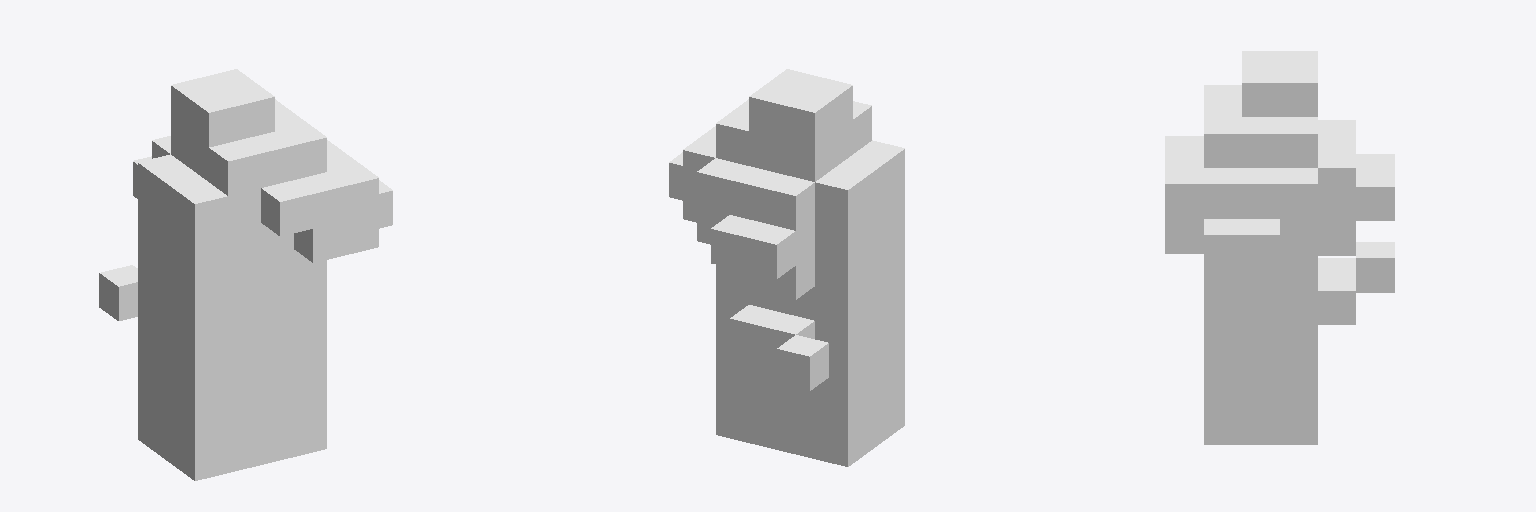
The model's file is SimplePatientTorso.obj.
3 views of the same model, side by side, from view 1: azimuth 30°, elevation 25°; view 2: azimuth 150°, elevation 25°; view 3: azimuth 270°, elevation 25° (orthographic).
Size of the model in its own units: 6 by 10 by 6.